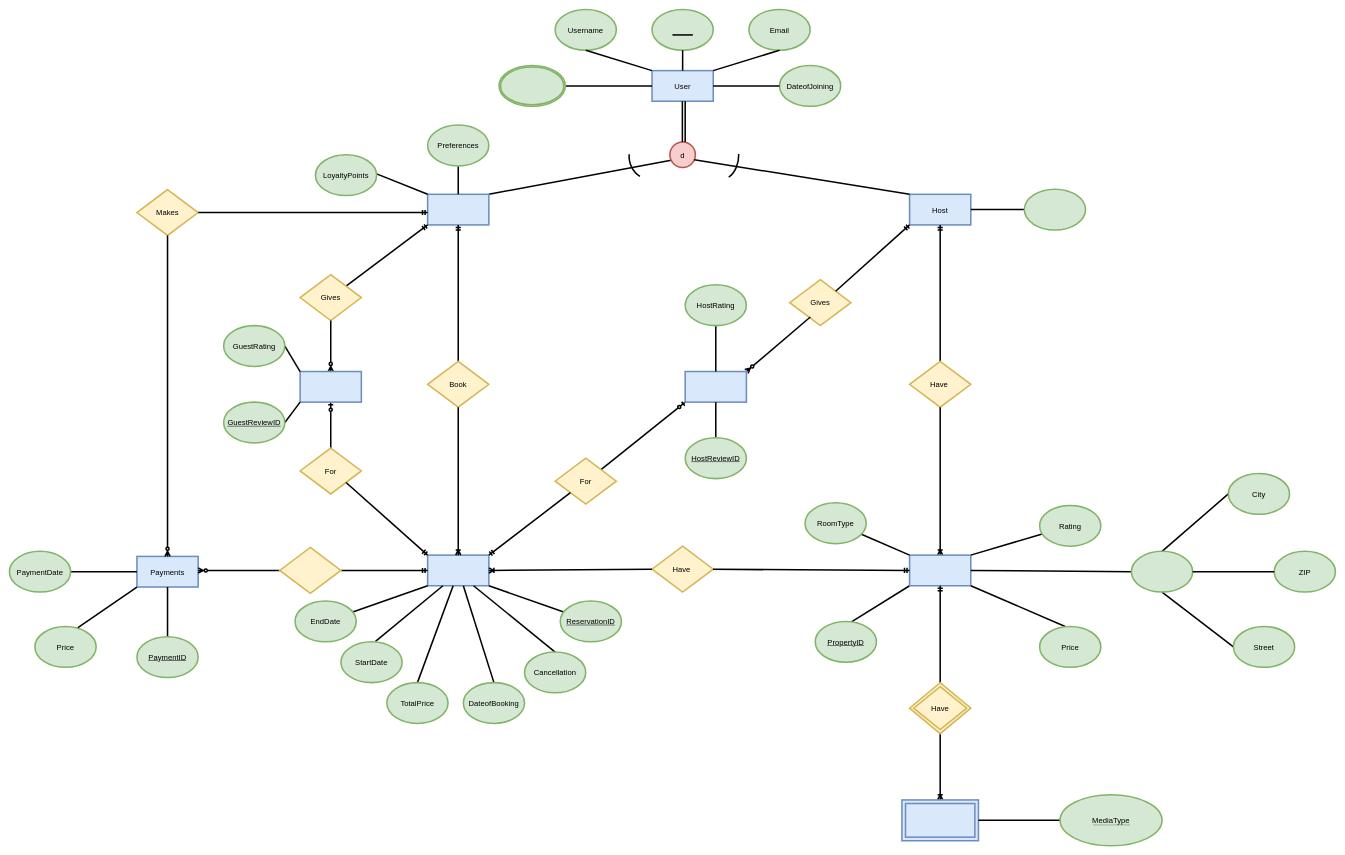
The diagram is 1345 pixels wide and 855 high, and some of its shapes have lost their labels. The shapes that lost their labels are listed below. From the top down, each one's centre as x and y in pixels, then its label:
the point at 682,29: UserID
the point at 532,86: PhoneNumbers
the point at 458,209: Guest
the point at 1054,209: SuperHostStatus
the point at 330,387: GuestReviews
the point at 715,387: HostReviews
the point at 310,570: Has
the point at 458,570: Reservation
the point at 940,570: Property
the point at 1161,571: Address
the point at 940,820: Media
